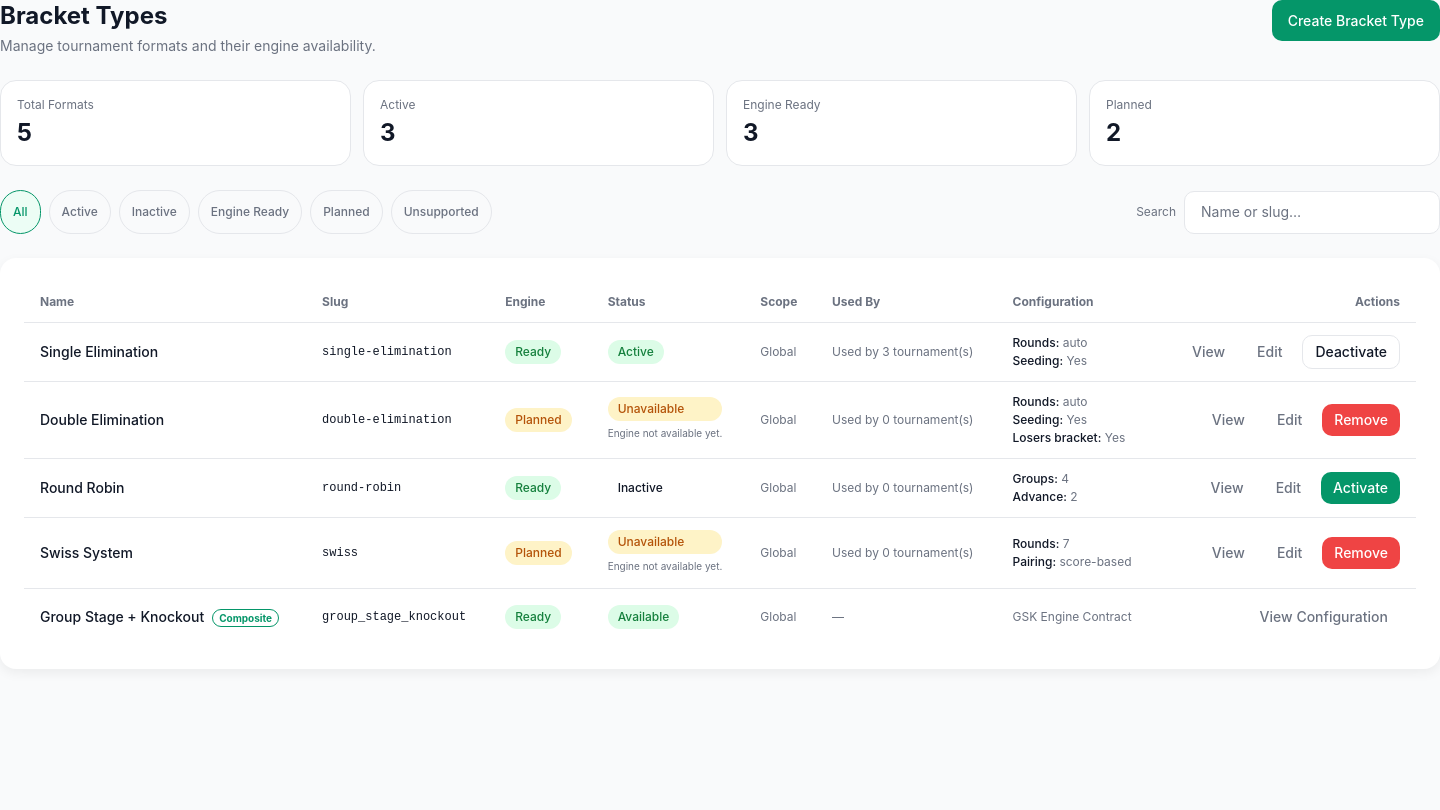
Test: TournamentBracketTypesPage — Step 2B-2 CRUD › 2. Create modal opens with the three fields
Check: the text "Single Elimination" is shown, box [24,322,306,382]
Click the button "Create Bracket Type". click: coordinates (1356, 20)
box: [1272,0,1439,41]
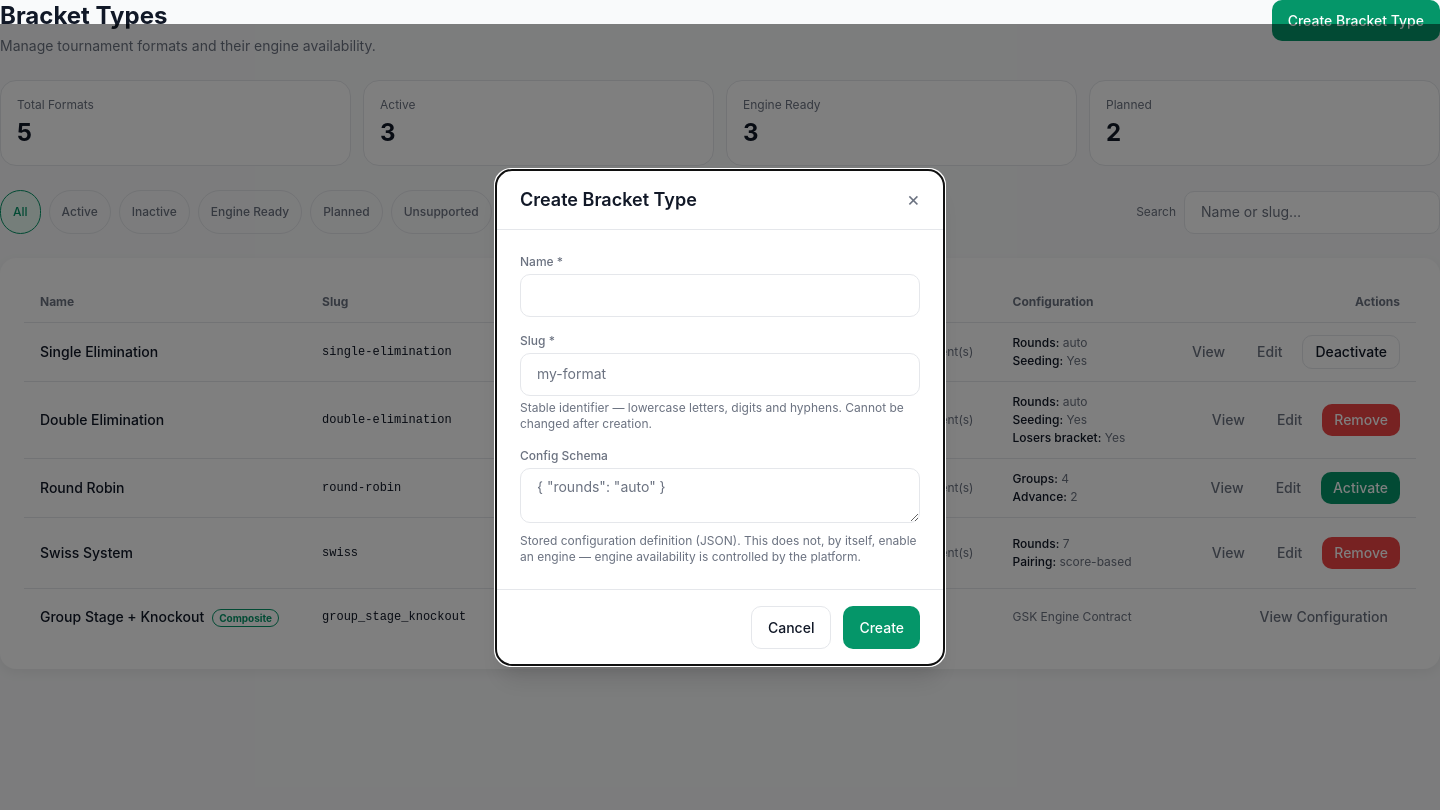
Check: the field labelled "Name *" is shown, box [520,274,920,316]
Check: the field labelled "Slug *" is shown, box [520,352,920,396]
Check: the text box labelled "Config Schema" is shown, box [520,468,920,522]
